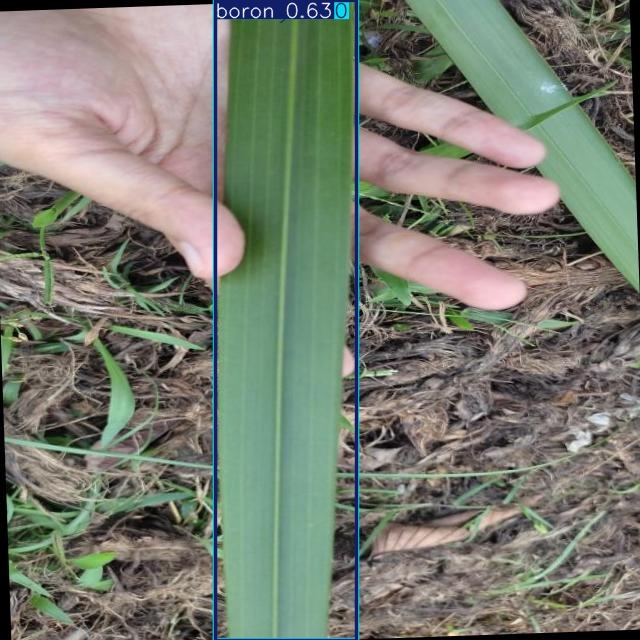Healthy: (214, 1, 357, 640)
nitrogen: (215, 0, 356, 640)
